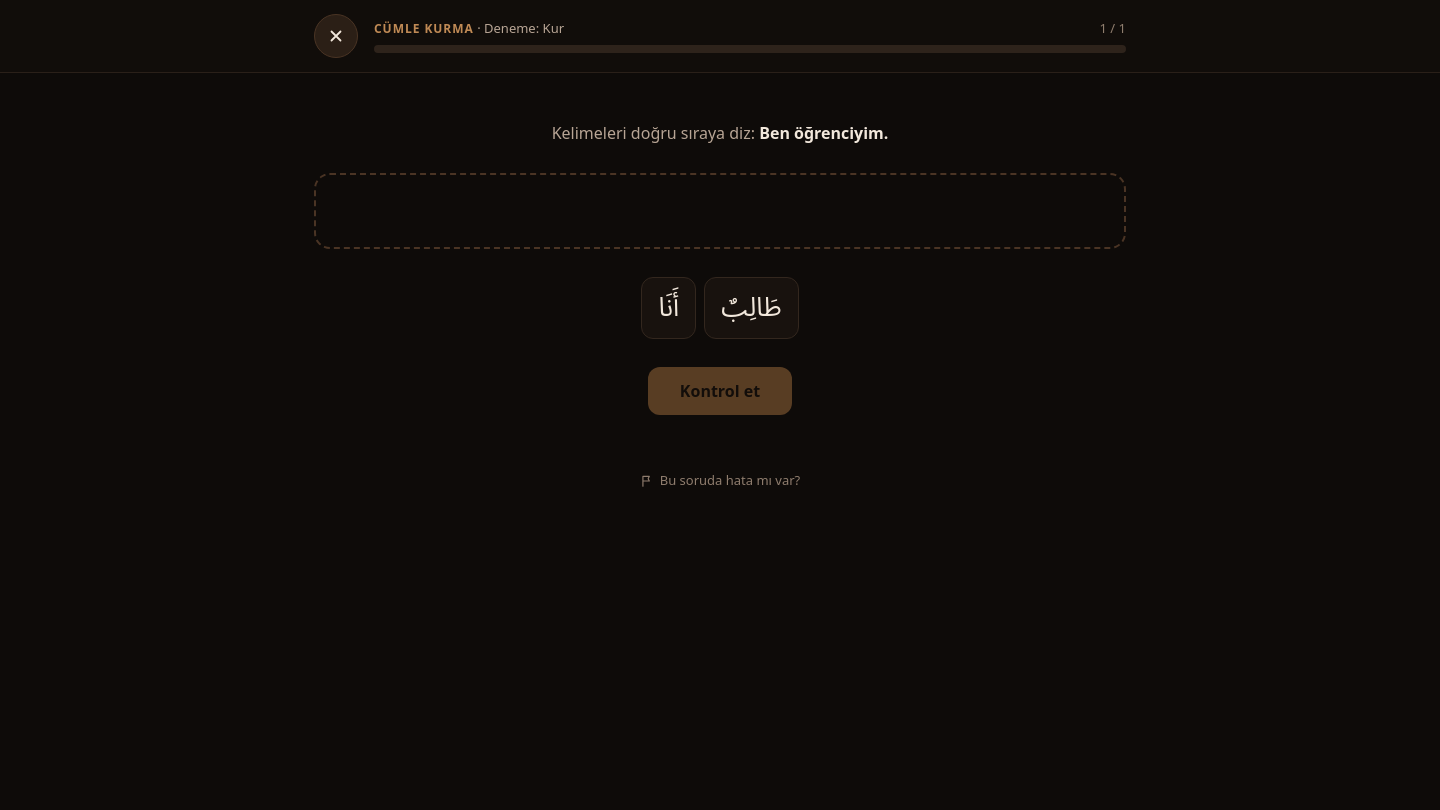
Test: Doğru / yanlış ve cümle kurma › cümle kurmada kelimeler doğru sırayla dizilince doğru sayar
Click the 1st button with class "opt": x=669, y=308 [642,277,696,339]
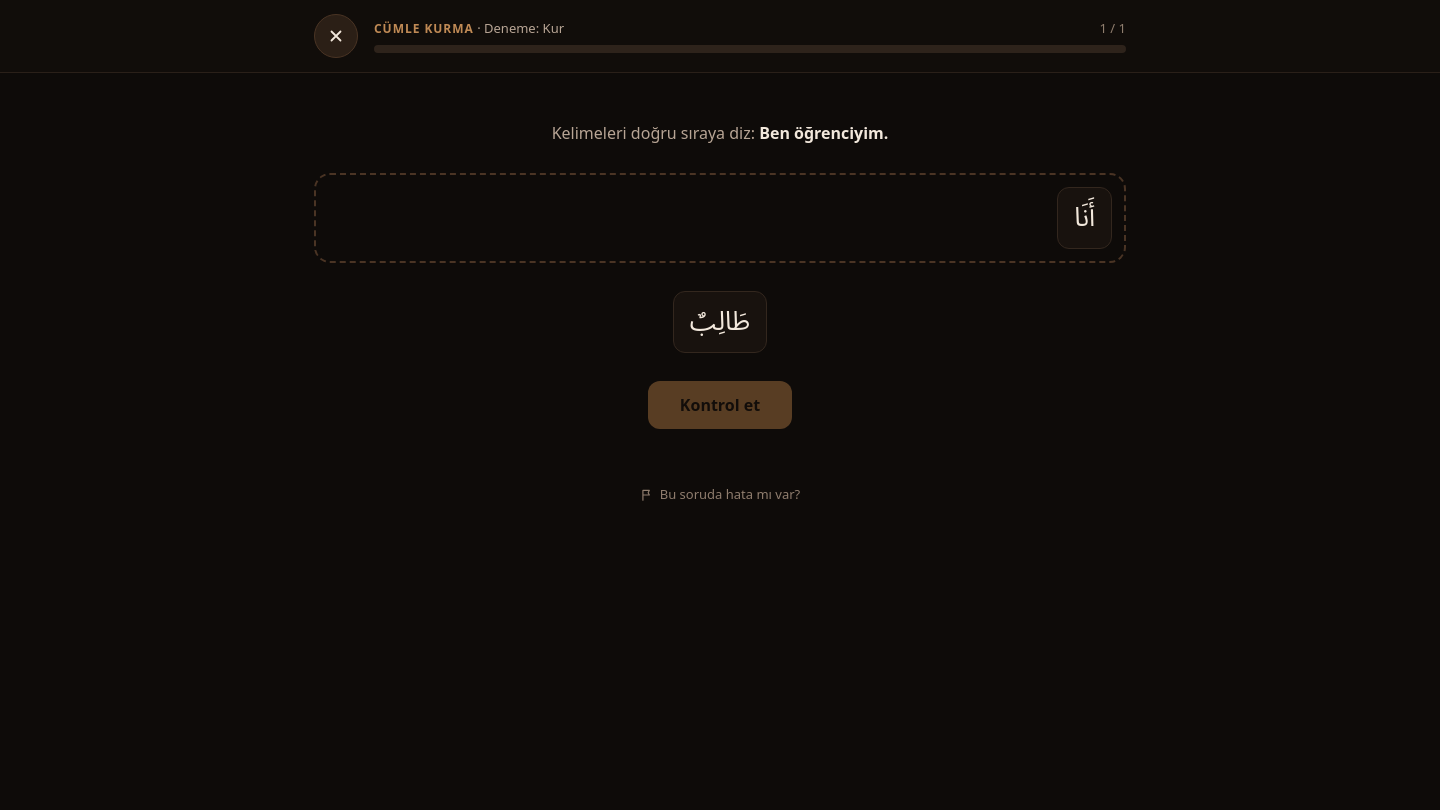
Click the 2nd button with class "opt": x=720, y=322 [673,291,767,353]
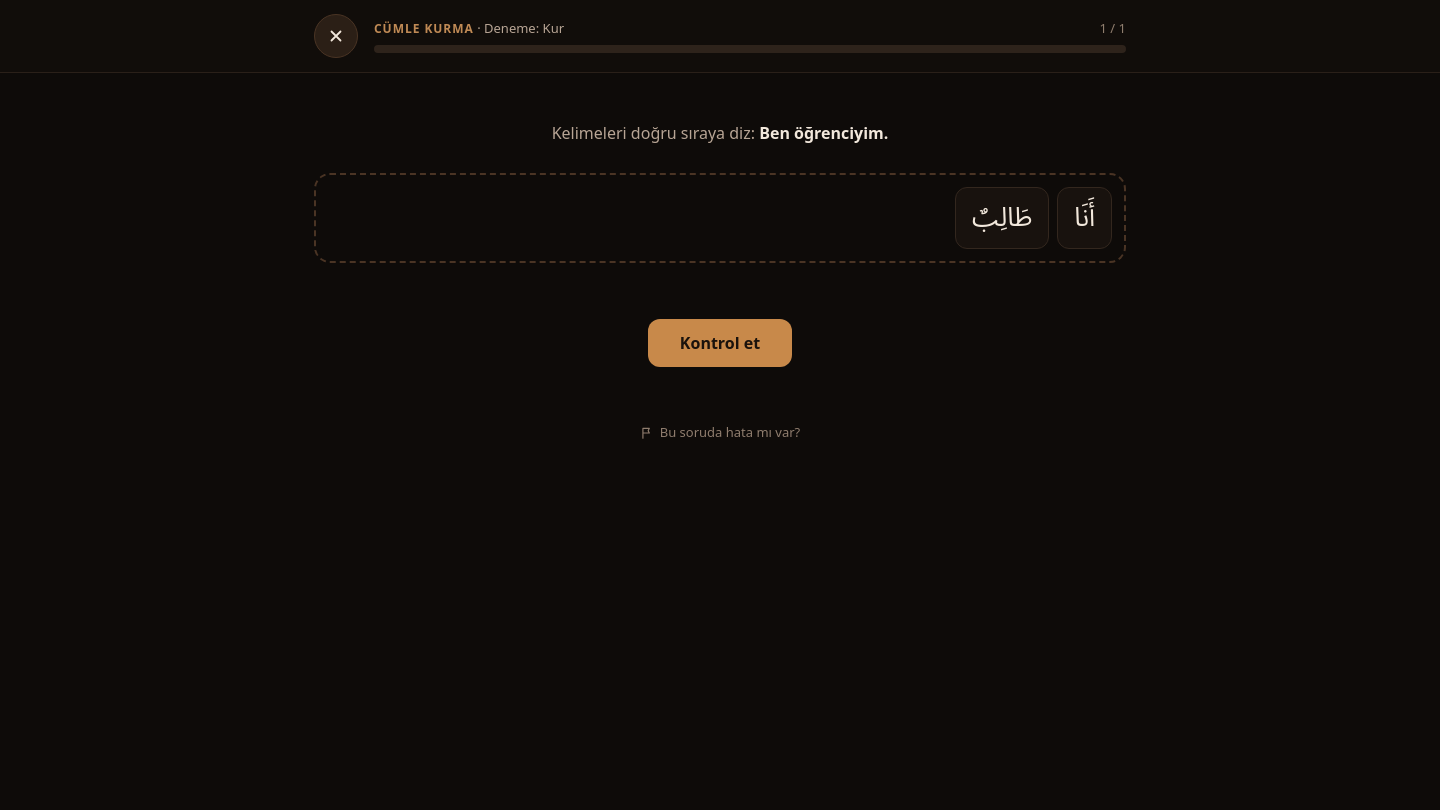
Click the button "Kontrol et": x=720, y=343 [648,319,792,367]
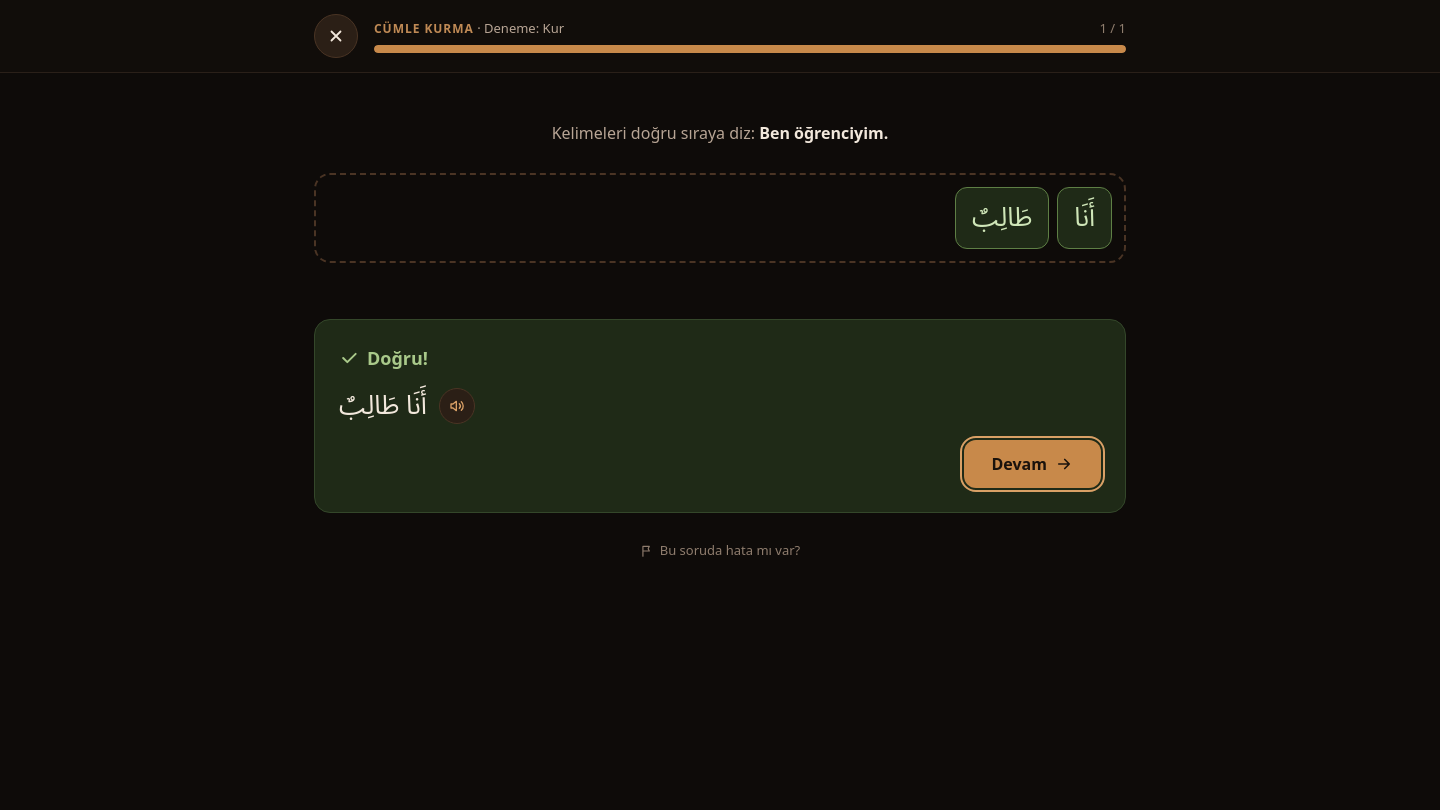
Expected: the text "Doğru!" is shown, [367,346,428,370]
